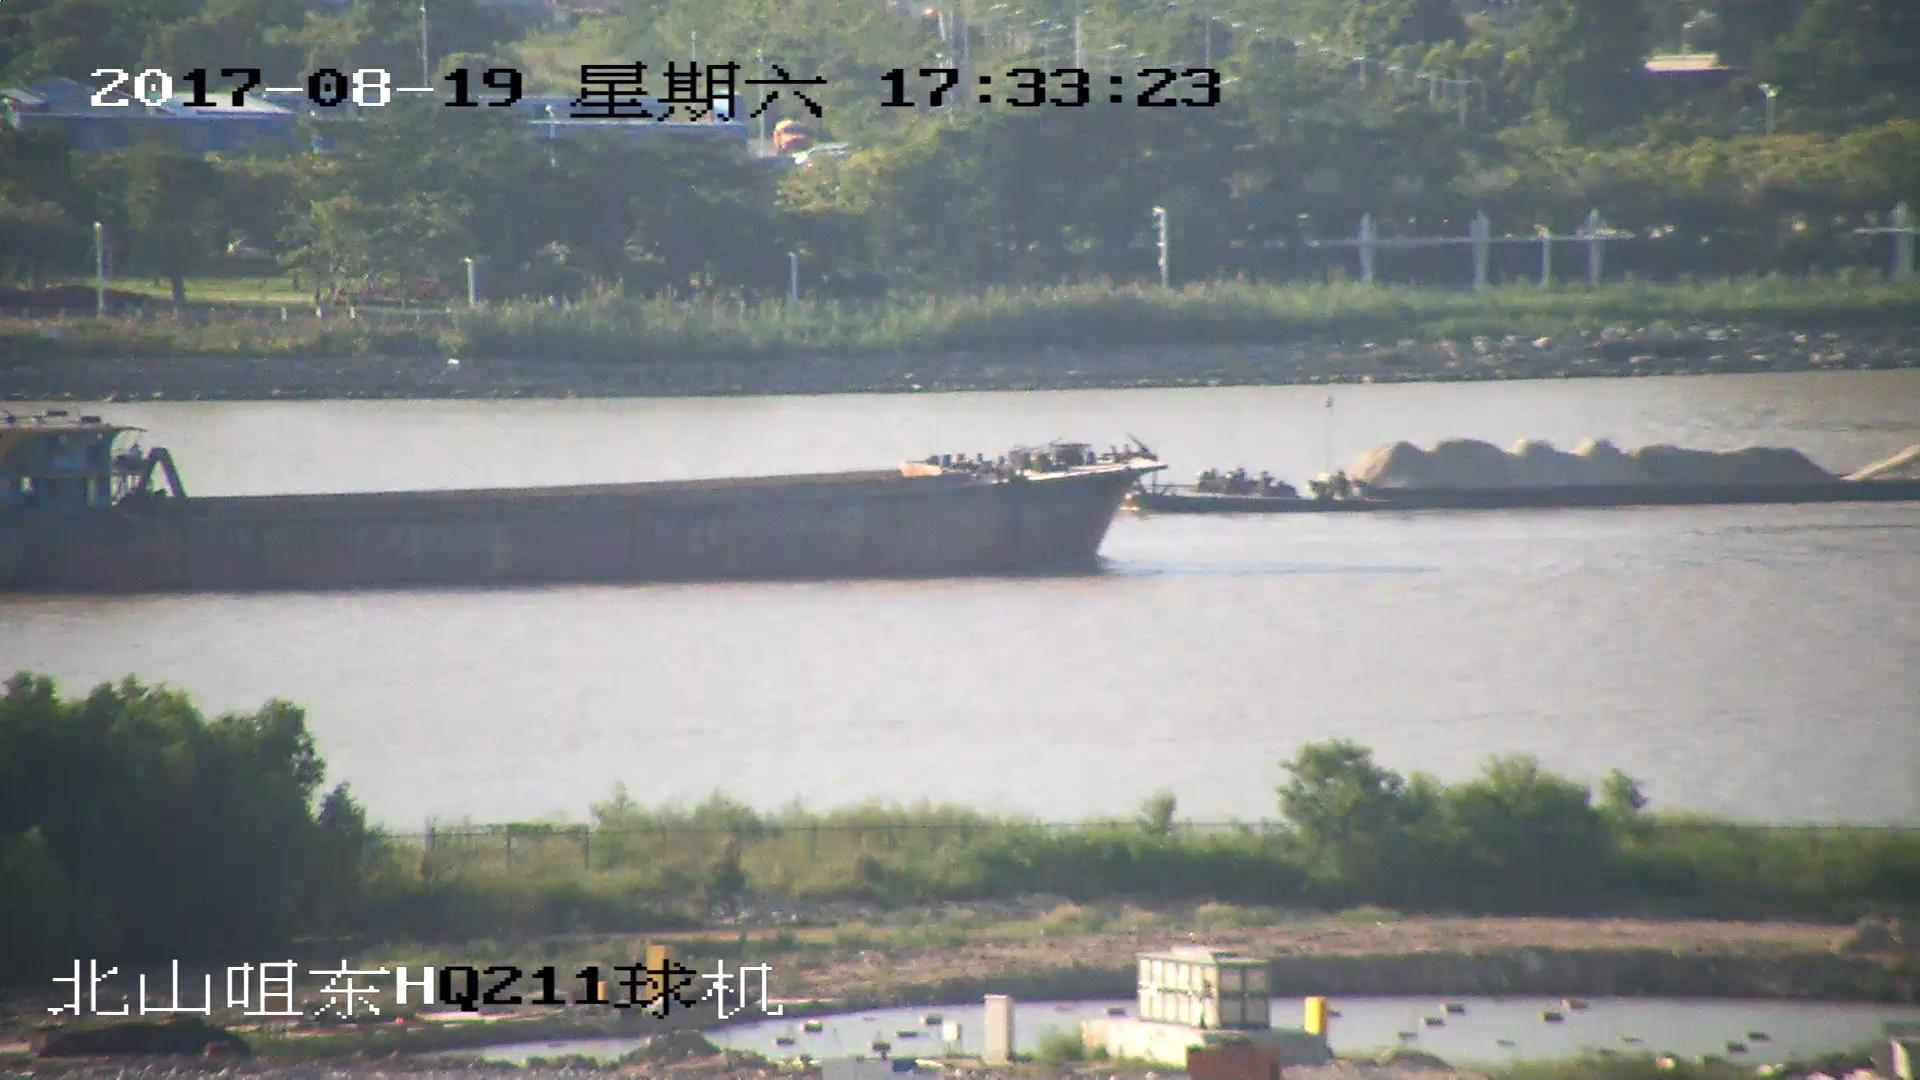bulk cargo carrier: (1, 420, 1154, 599)
ore carrier: (1120, 442, 1920, 513)
